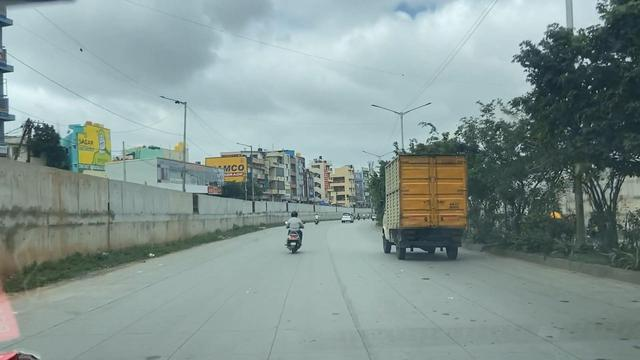HMV: (377, 148, 477, 270)
